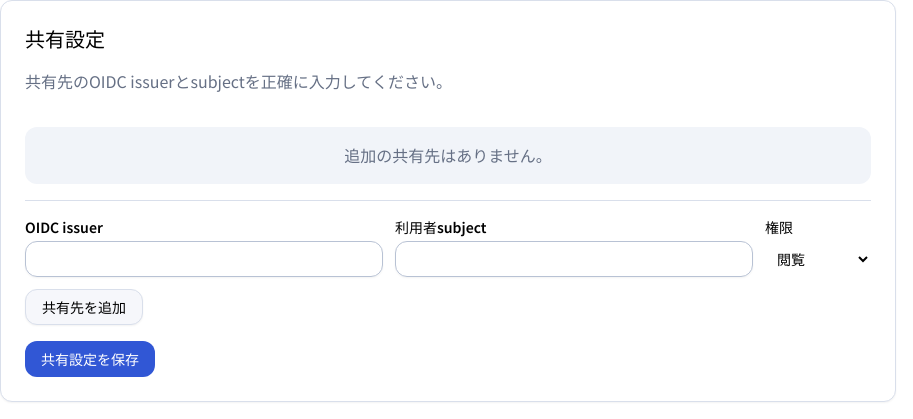
保存中は同じ更新番号の要求を重ねて送らない
What coordinates should you click on to do the following:
click the button "共有設定を保存"
I would click on:
 (90, 359)
Its box is [25,341,155,377].
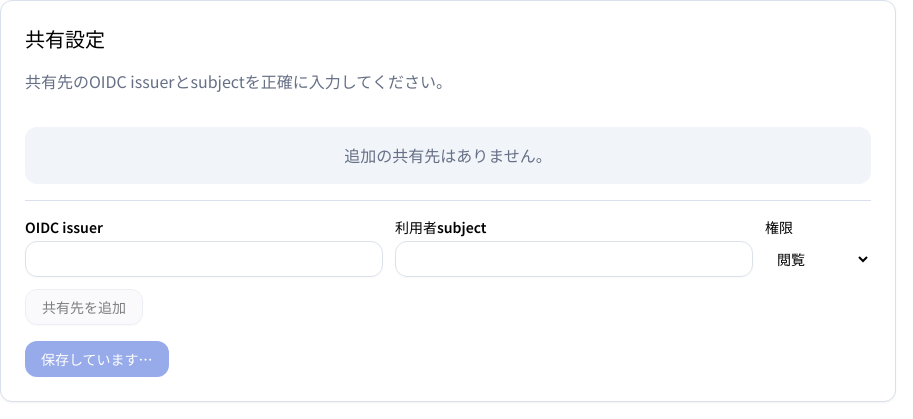
Result: the button "保存しています…" is disabled
What coordinates should you click on to do the following:
click the button "保存しています…"
I would click on:
 (97, 359)
Its box is [25,341,169,377].
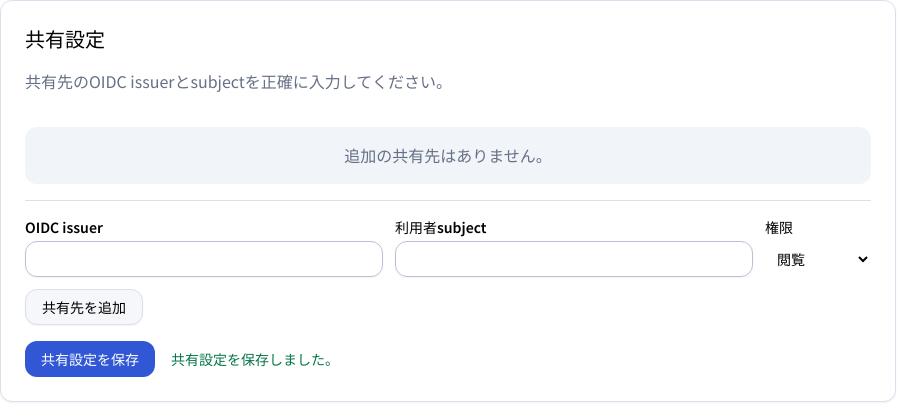
Result: the text "共有設定を保存しました。" is shown at [171,349,339,369]
